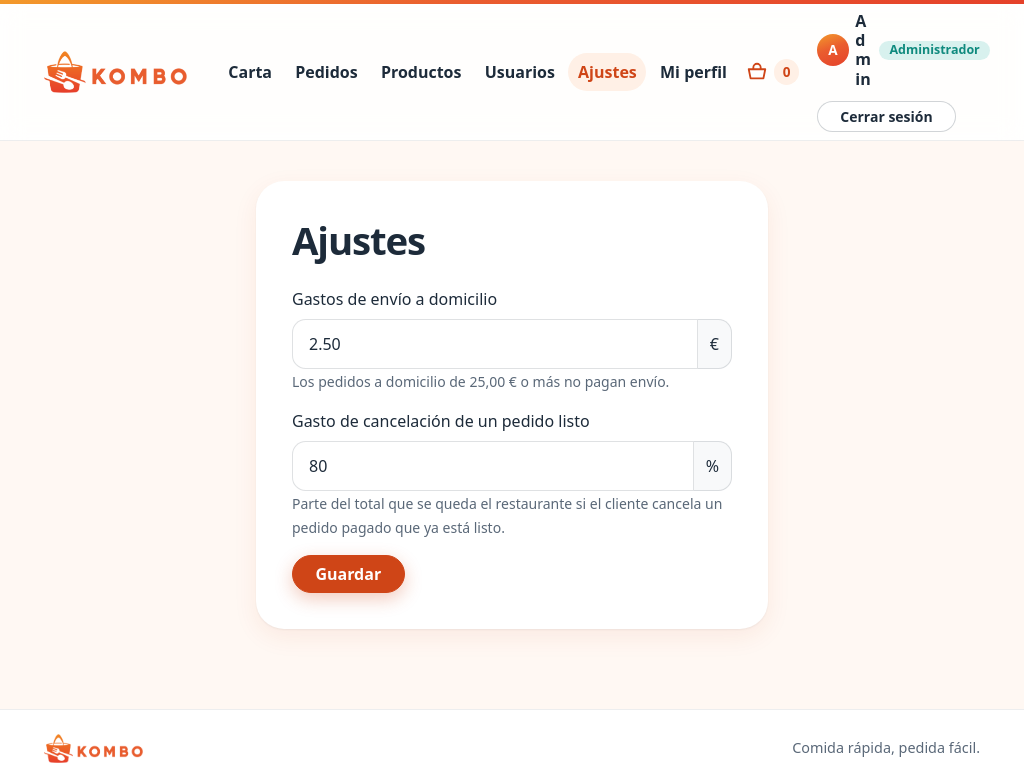
Scenario: AdminSettingsPage › lets the administrator change the delivery cost and the cancellation fee
The image size is (1024, 768).
Expected: the number field labelled "Gasto de cancelación de un pedido listo" holds "80", [292,441,694,491]
Replace the text in the number field labelled "Gastos de envío a domicilio" with "3.20": (495, 344) [292,319,698,369]
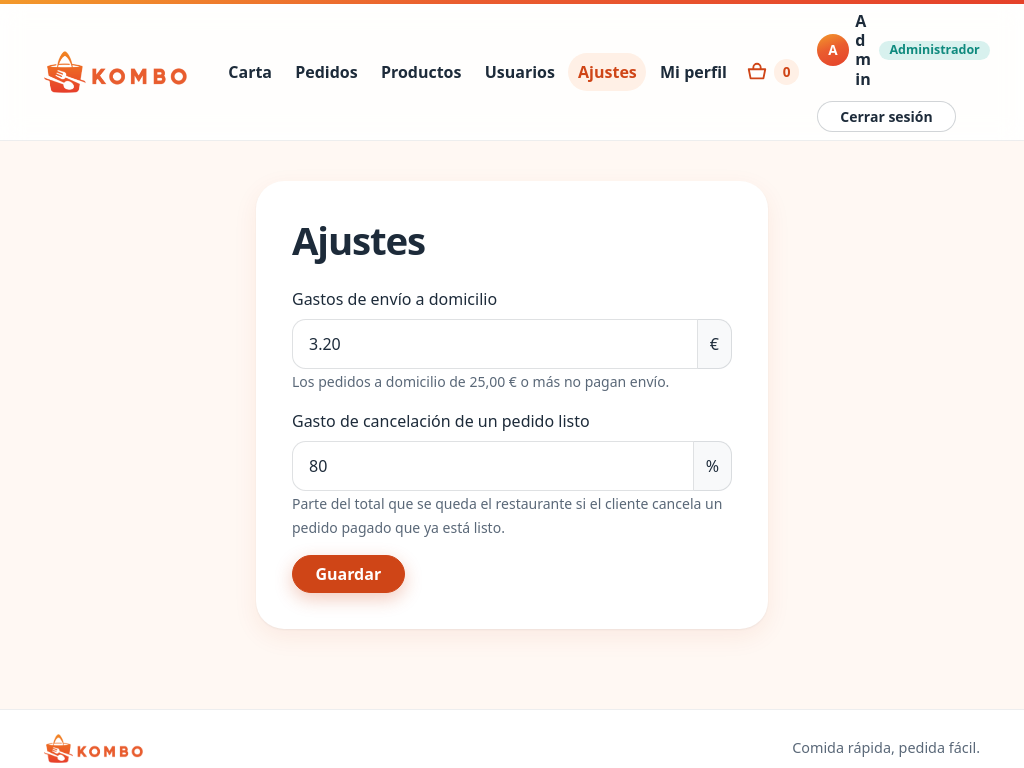
Replace the text in the number field labelled "Gasto de cancelación de un pedido listo" with "60": (493, 466) [292,441,694,491]
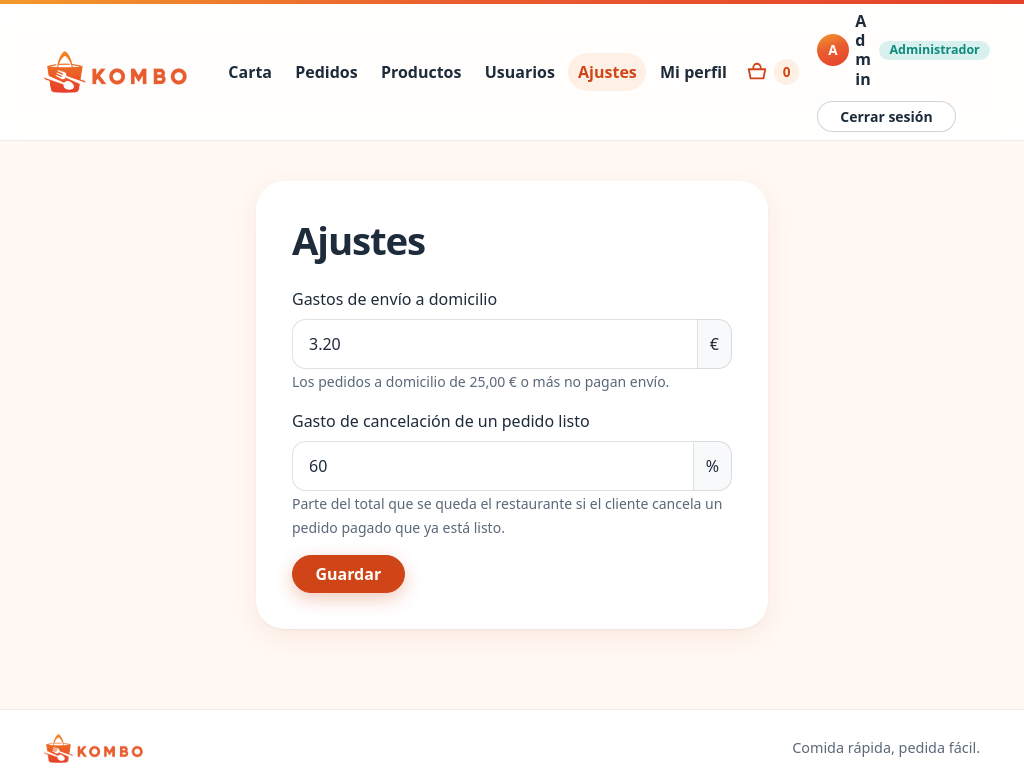
Click the button "Guardar": (348, 574) [292,555,404,593]
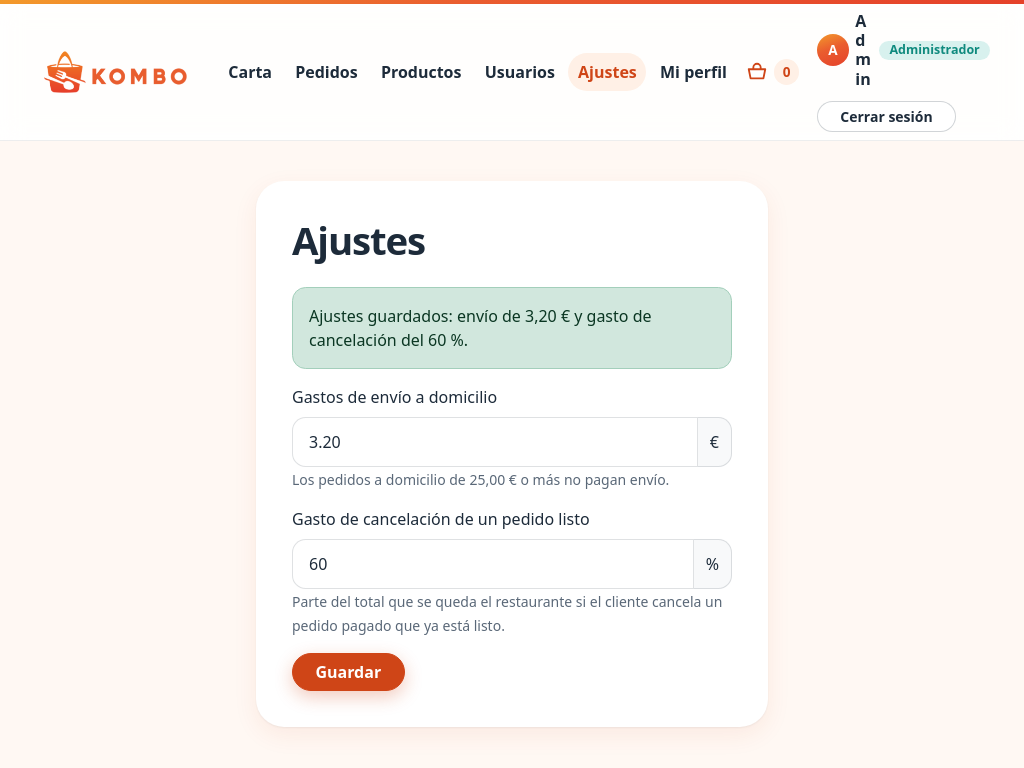
Now the text "Ajustes guardados: envío de 3,20 € y gasto de cancelación del 60 %." is shown, box [292,287,732,369]
